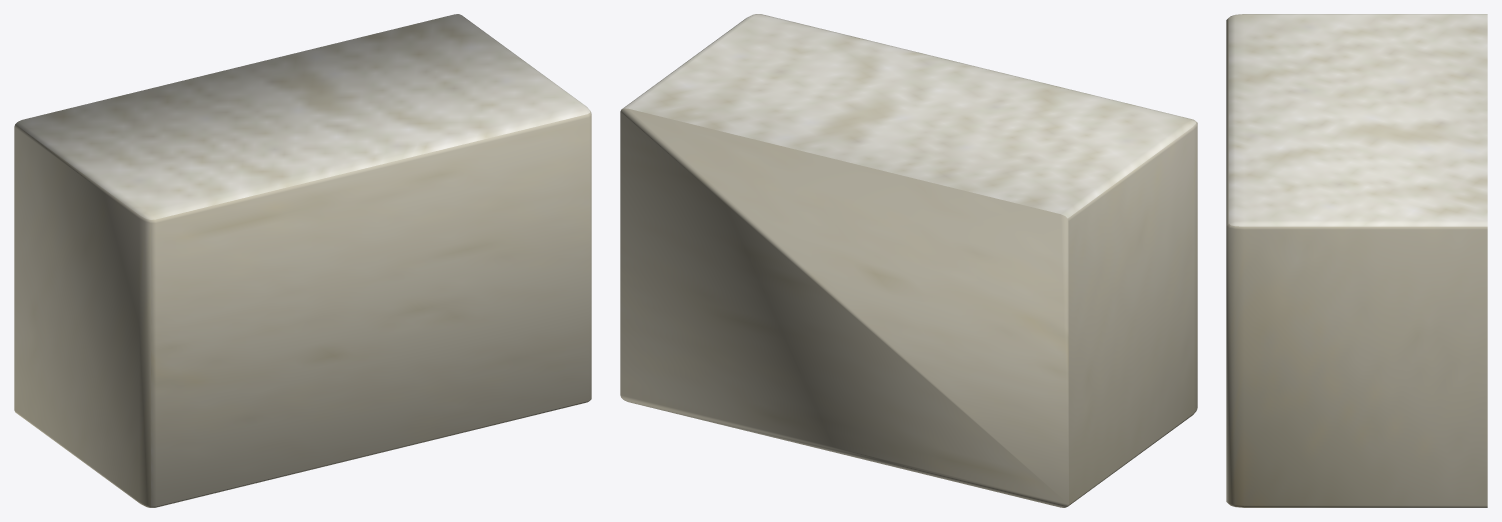
The model's file is tofu_piece_4.fbx.
3 views of the same model, side by side, from view 1: azimuth 30°, elevation 25°; view 2: azimuth 150°, elevation 25°; view 3: azimuth 270°, elevation 25° (orthographic). The views are drawn at different scales.
Parts seen in each view (by area): view 1: Tofu; view 2: Tofu; view 3: Tofu.
Part boxes in pixels (left/top/right/bottom): Tofu: left=14, top=14, right=591, bottom=507; Tofu: left=620, top=14, right=1197, bottom=507; Tofu: left=1226, top=14, right=1487, bottom=507.
Bounding box in the file's own units: 9.8 × 6.12 × 5.07.
1 material, 1 textured.
